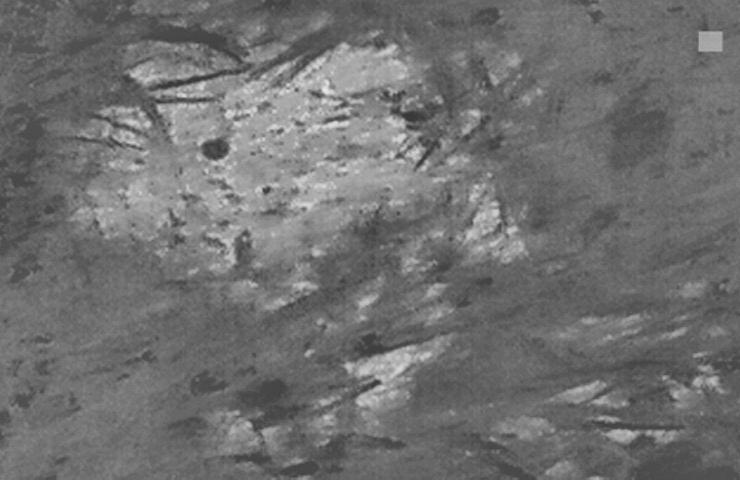landmines: (57, 35, 527, 320)
